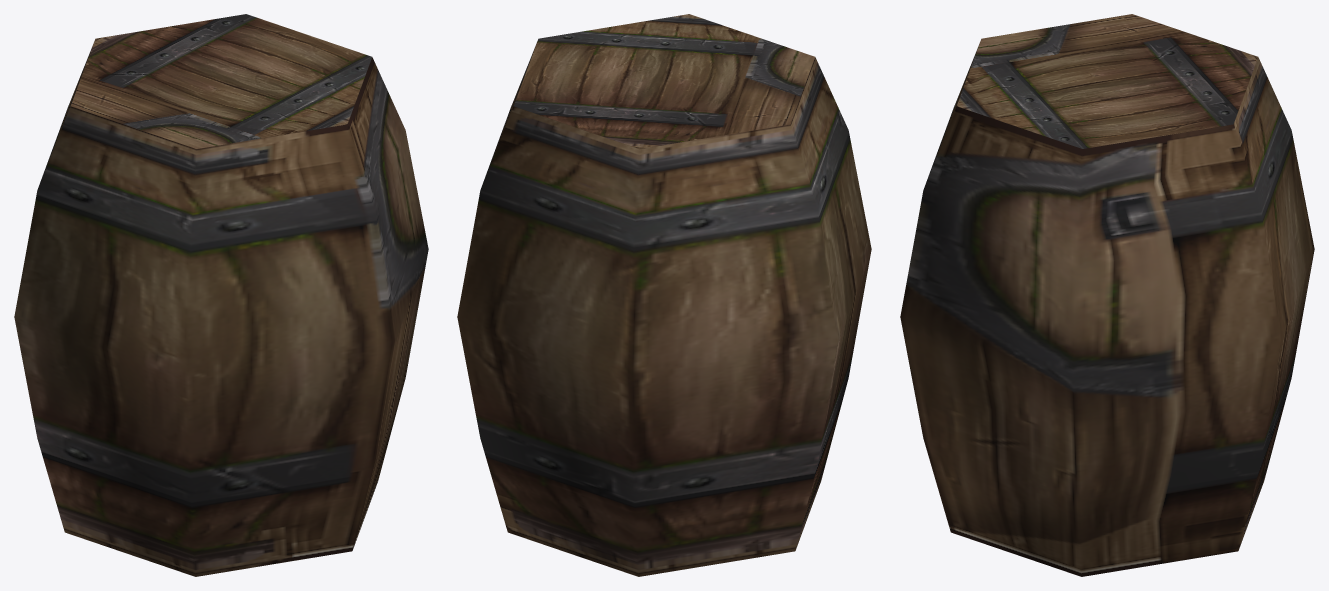
Rendered from effect_mutong03.FBX.
The picture shows the model from 3 angles, left to right: view 1: azimuth 30°, elevation 25°; view 2: azimuth 150°, elevation 25°; view 3: azimuth 270°, elevation 25°; orthographic projection.
Visible parts, largest first — view 1: effect_mutong03; view 2: effect_mutong03; view 3: effect_mutong03.
Part boxes in pixels (x1,y1,x2,y2): effect_mutong03: [14, 14, 428, 576]; effect_mutong03: [457, 14, 871, 576]; effect_mutong03: [900, 14, 1314, 576].
Bounding box in the file's own units: 1.13 × 1.21 × 1.07.
